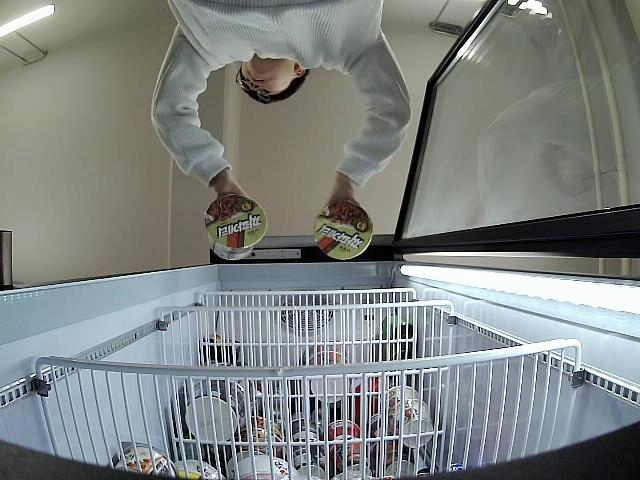03_chapagetti_L: (201, 198, 267, 262), (313, 198, 374, 260)
